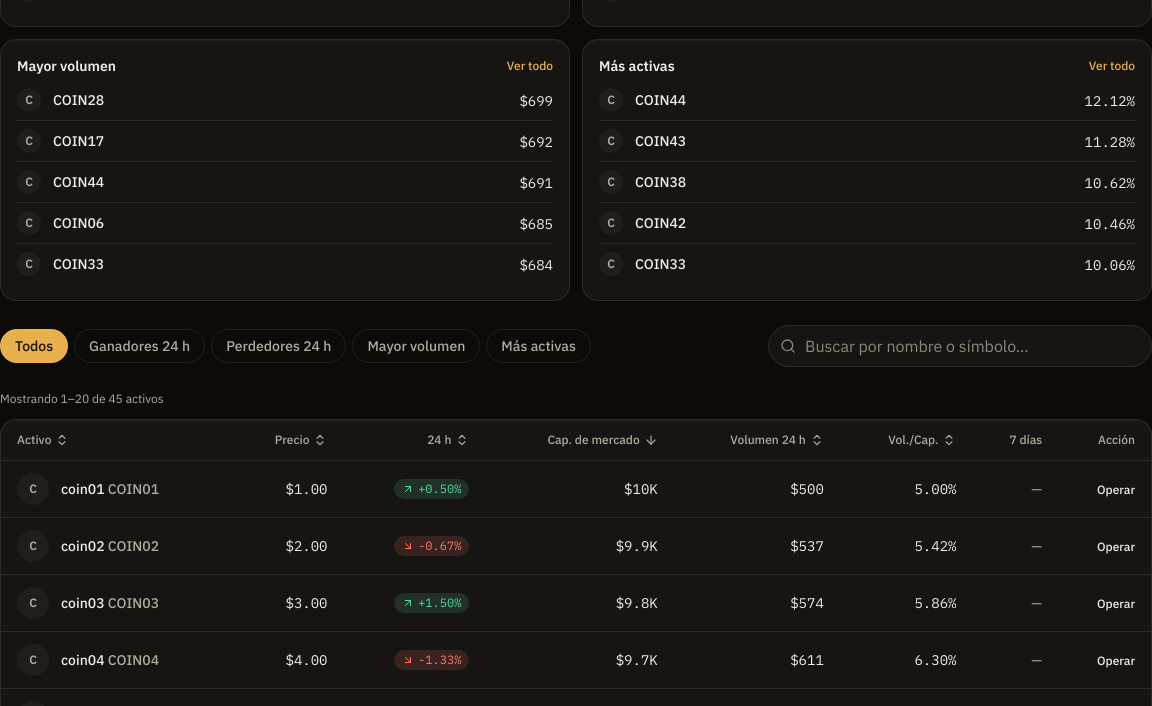
Test case: MarketExplorer: search › allows editing in the middle of the text without moving the cursor
The width and height of the screenshot is (1152, 706).
(page scrolled)
Type "ab" into the search field labelled "Buscar por nombre o símbolo" at (960, 346), box [768,325,1151,367]
(page scrolled)
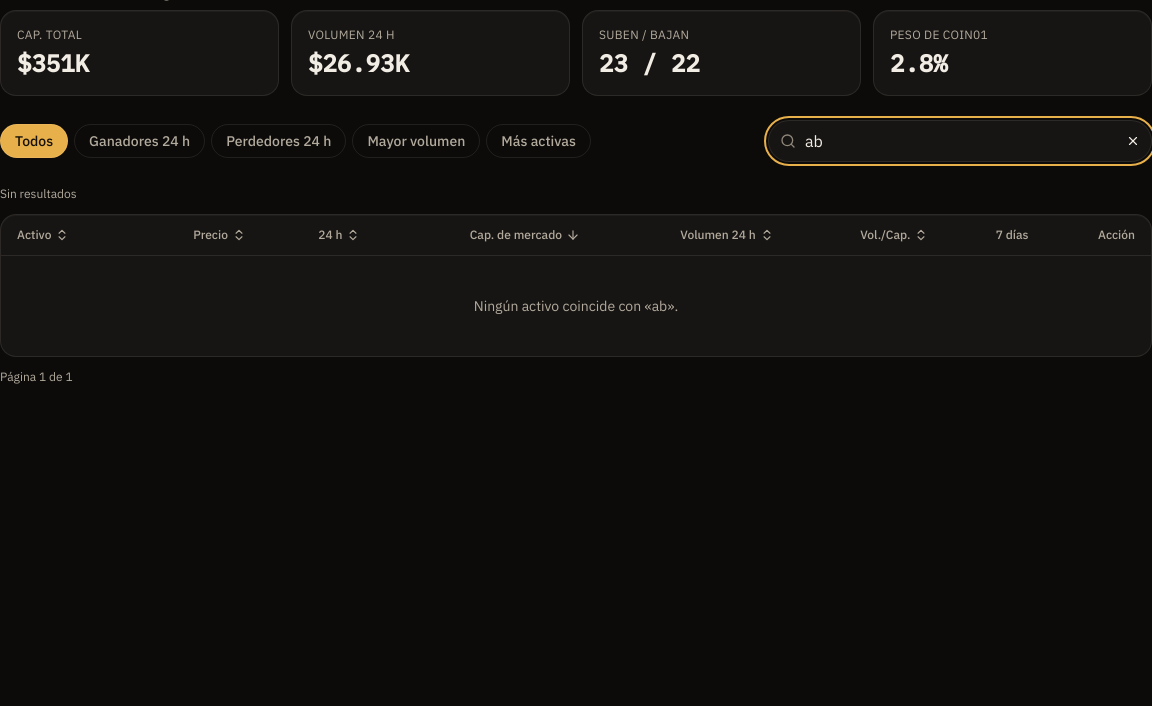
Type "X" into the search field named "Buscar por nombre o símbolo" at (960, 141), box [768,120,1151,162]
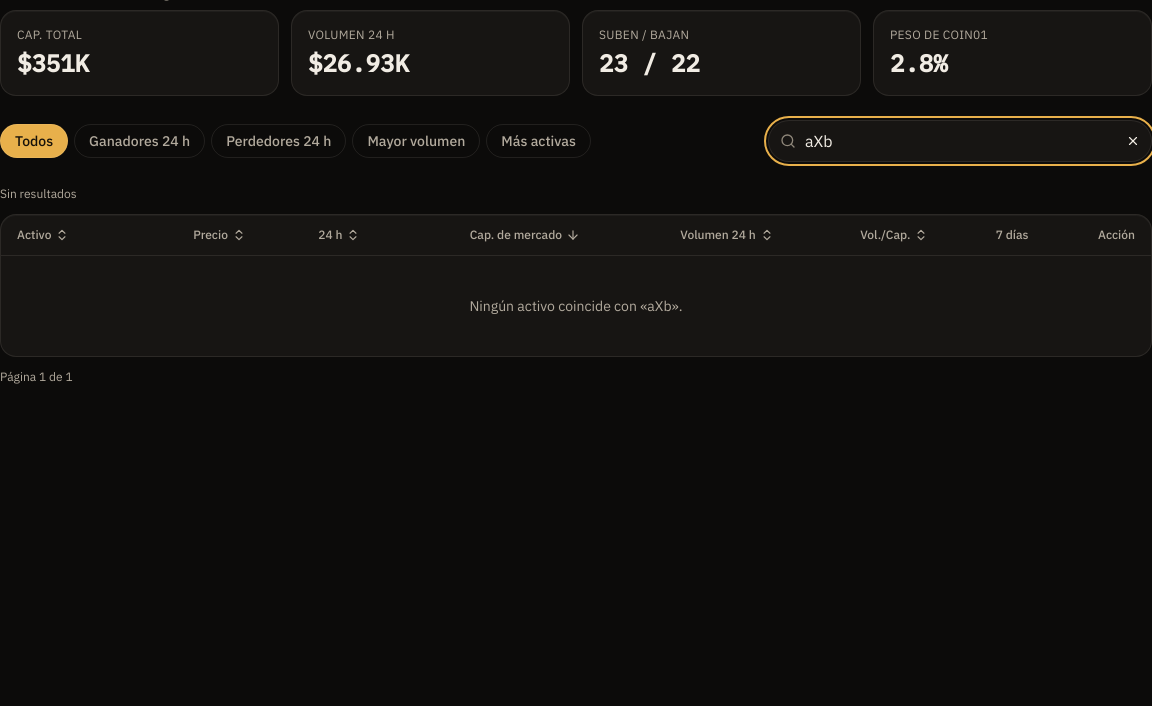
Expected: the search field named "Buscar por nombre o símbolo" holds "aXb", [768,120,1151,162]
